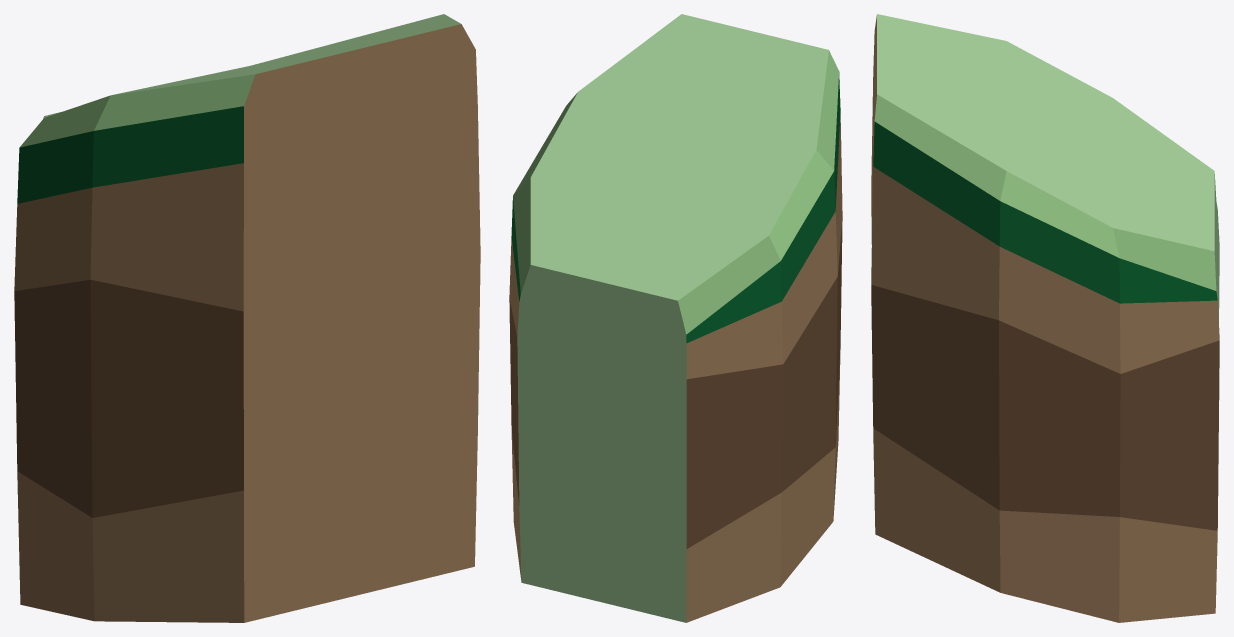
Rendered from slanted_ground_asset.fbx.
3 views of the same model, side by side, from view 1: azimuth 30°, elevation 25°; view 2: azimuth 150°, elevation 25°; view 3: azimuth 270°, elevation 25° (orthographic). The views are drawn at different scales.
Parts seen in each view (by area): view 1: Cylinder.004; view 2: Cylinder.004; view 3: Cylinder.004.
Boxes of the visible parts, x1,y1,x2,y2 form: Cylinder.004: [14, 14, 480, 622]; Cylinder.004: [509, 14, 842, 622]; Cylinder.004: [871, 14, 1219, 622].
Bounding box in the file's own units: 298 × 479 × 294.
